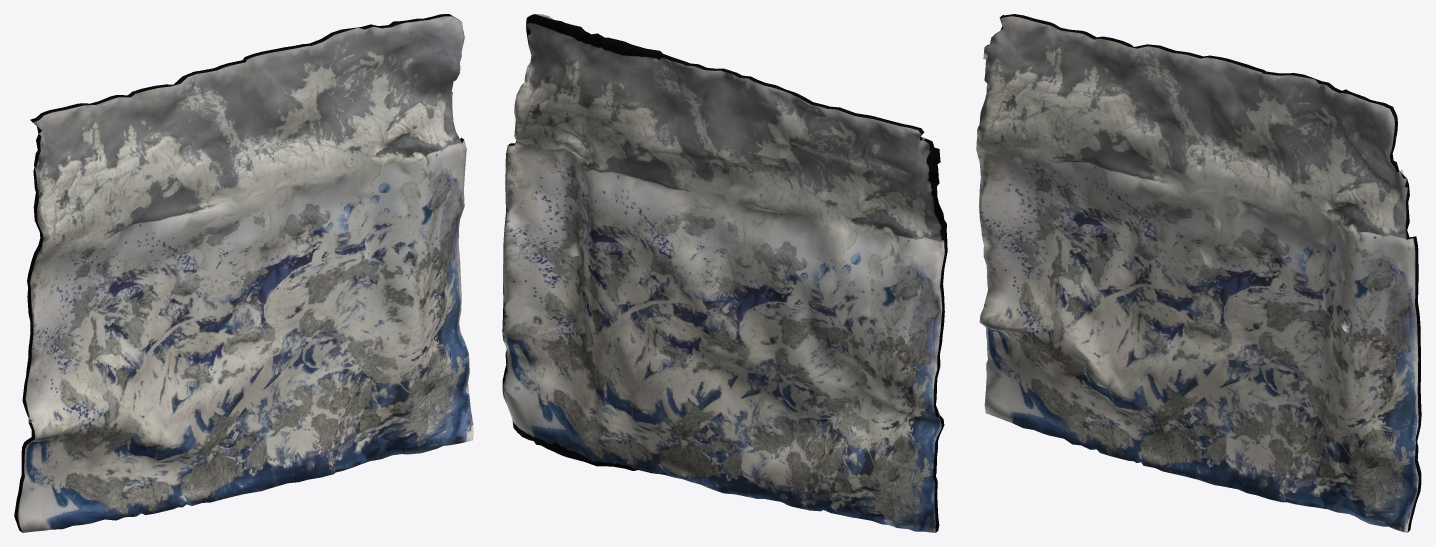
File: relief_proxy.opt.glb
3 renders of one model, left to right at view 1: azimuth 30°, elevation 25°; view 2: azimuth 150°, elevation 25°; view 3: azimuth 330°, elevation 25°, orthographic. The views are drawn at different scales.
Parts seen in each view (by area): view 1: relief_proxy; view 2: relief_proxy; view 3: relief_proxy.
Boxes of the visible parts, left/top/right/bottom form: relief_proxy: left=14, top=14, right=473, bottom=532; relief_proxy: left=502, top=14, right=947, bottom=532; relief_proxy: left=976, top=14, right=1421, bottom=532.
Size of the model in its own units: 1.02 by 0.9543 by 0.0829.
1 material, 1 textured.
